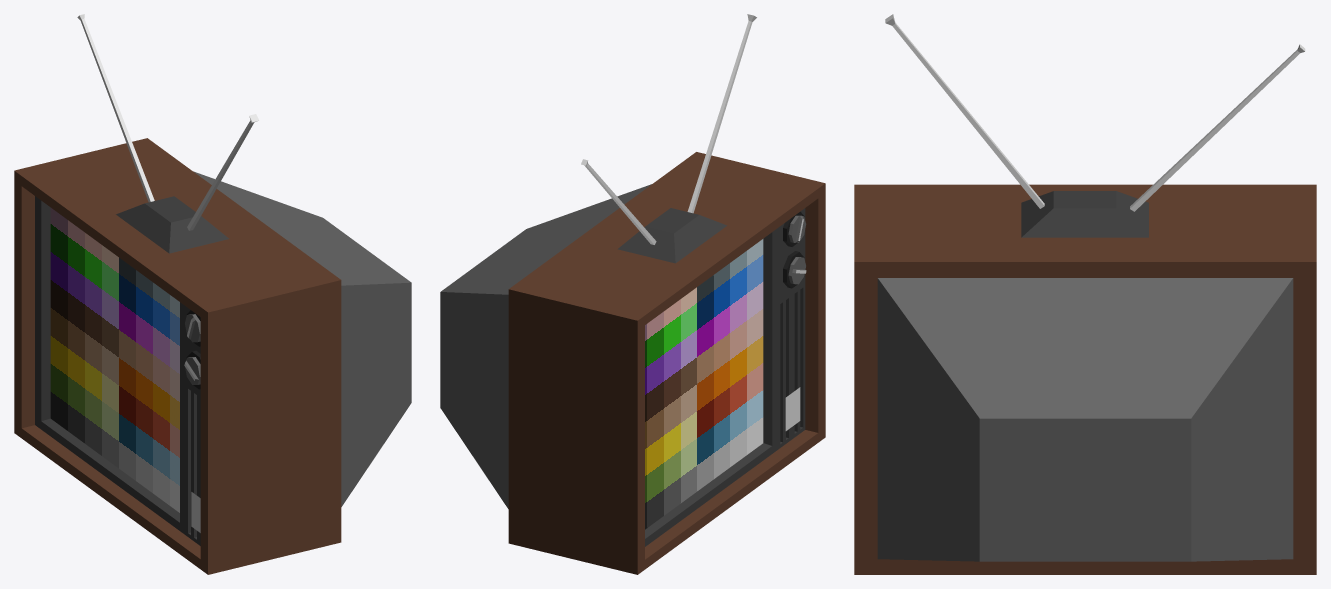
Rendered from old_tv.fbx.
3 views of the same model, side by side, from view 1: azimuth 30°, elevation 25°; view 2: azimuth 150°, elevation 25°; view 3: azimuth 270°, elevation 25° (orthographic). The views are drawn at different scales.
Parts seen in each view (by area): view 1: TV, Screen; view 2: TV, Screen; view 3: TV.
Boxes of the visible parts, x1,y1,x2,y2 form: TV: [14, 14, 411, 574]; Screen: [50, 208, 179, 512]; TV: [440, 14, 825, 574]; Screen: [645, 239, 763, 529]; TV: [854, 14, 1316, 574].
Bounding box in the file's own units: 153 × 247 × 200.
